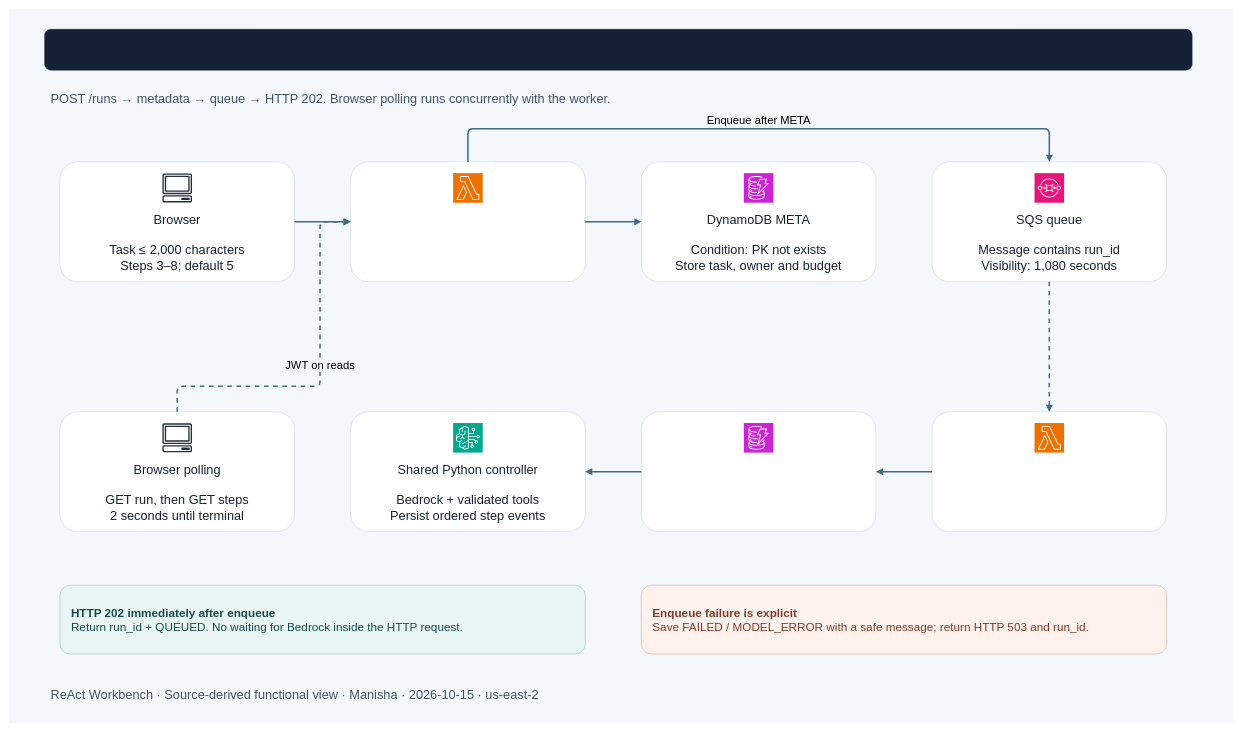
This 1241x731 diagram has some shape labels left out. The box of each missing label's shape, as (x1, y1, x2, y2) in pixels:
Conditional claim QUEUED → RUNNING Duplicate claim exits: (641, 411, 876, 532)
FastAPI Lambda Validate Pydantic request Create owned QUEUED run: (350, 161, 585, 282)
Submission returns quickly; execution happens asynchronously: (44, 29, 1192, 70)
Worker Lambda Batch size 1 / timeout 180s Controller deadline ≤150s: (932, 411, 1167, 532)
